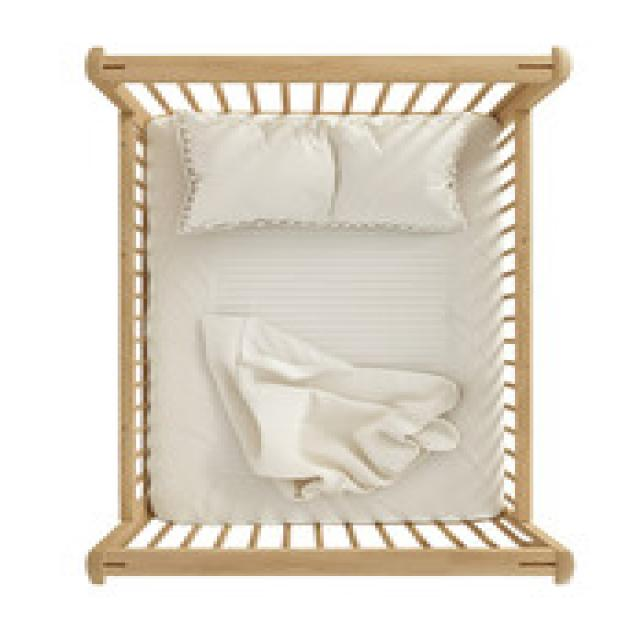crib: (110, 62, 538, 565)
